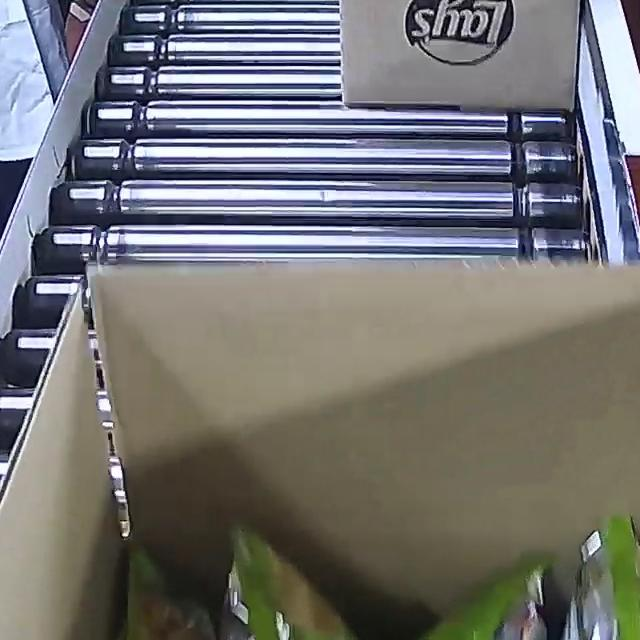yogurt: (107, 487, 640, 640)
